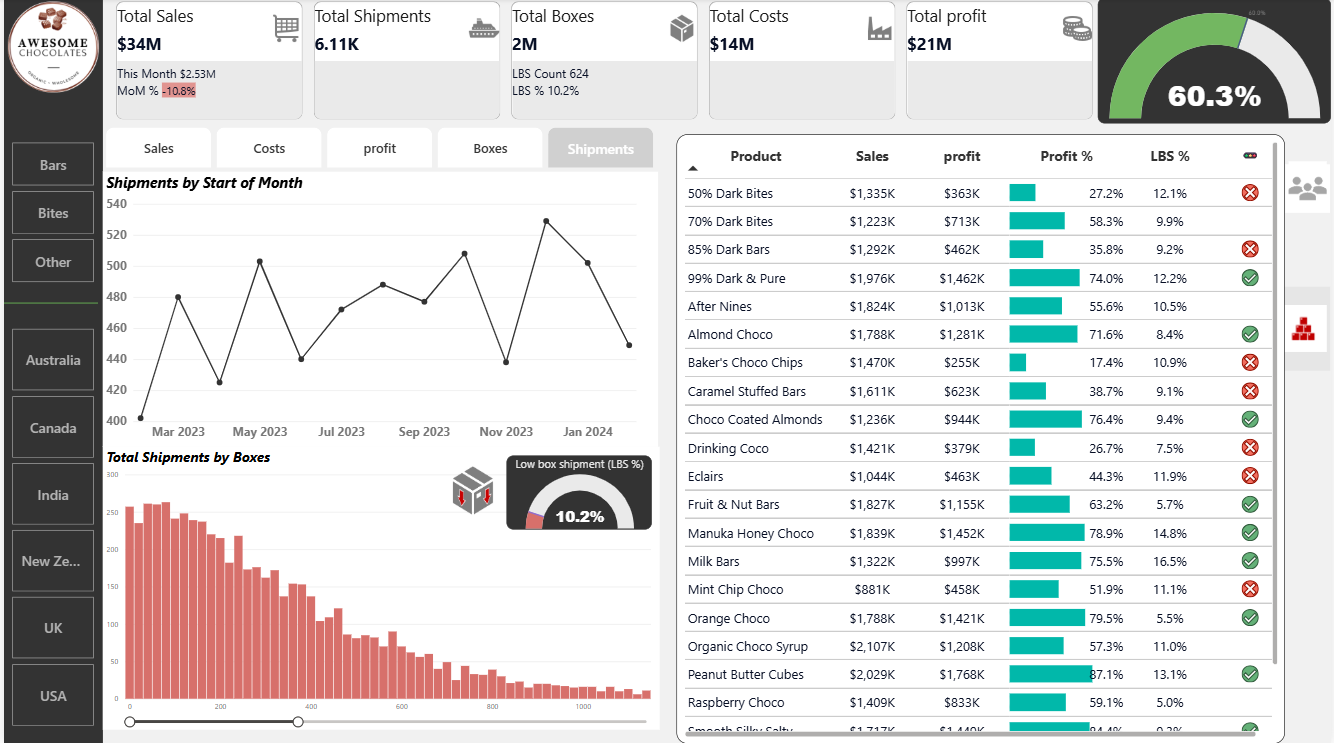

The dashboard page shown, as its layout file describes it:
{"tool":"powerbi","page":{"name":"Report","canvas":[1920,1080],"ordinal":0},"visuals":[{"type":"image","title":"Product highlighted img","box":[1842.2,418,77.8,121.2],"z":0},{"type":"shape","box":[0,0,143.4,1079.9],"z":1000},{"type":"cardVisual","fields":{"Data":["_Measures.Total Sales","_Measures.Total Shipments","_Measures.Total Boxes","_Measures.Total Costs","_Measures.Total profit"]},"box":[157.7,0,1425.2,181.6],"z":2000},{"type":"gauge","fields":{"Y":["_Measures.Profit %"]},"box":[1583,0,337.5,181.6],"z":3000},{"type":"image","box":[0,0,143.4,141.5],"z":4000},{"type":"lineChart","fields":{"Y":["_Measures.Total Boxes"],"Category":["calendar.Start of Month"]},"box":[143.4,251.4,804.4,398.5],"z":5000},{"type":"advancedSlicerVisual","fields":{"Values":["Measure Selector.Measure Selector"]},"box":[143.4,182.5,804.4,68.9],"z":6000},{"type":"clusteredColumnChart","title":"Total Shipments by Boxes","fields":{"Y":["_Measures.Total Shipments"],"Category":["shipments.Boxes (bins)"]},"box":[143.1,649.3,805.2,409],"z":7000},{"type":"gauge","title":"Low box shipment (LBS %)","fields":{"Y":["_Measures.LBS %"]},"box":[728.2,662.2,210,107],"z":8000},{"type":"image","title":"LBS Icon","box":[627.3,665.8,100.9,93.5],"z":9000},{"type":"tableEx","title":"Product Details table","fields":{"Values":["products.Product","_Measures.Total Sales","_Measures.Total profit","_Measures.Profit %","_Measures.LBS %","_Measures.Profit Target Indicator"]},"box":[974,198.1,880.4,882.3],"z":11000},{"type":"advancedSlicerVisual","fields":{"Values":["products.Category"]},"box":[7.3,203.6,128.4,212.8],"z":12000},{"type":"advancedSlicerVisual","fields":{"Values":["locations.Geo"]},"box":[7.3,473.2,128.4,585.1],"z":13000},{"type":"shape","box":[0,432.9,135.7,18.3],"z":14000},{"type":"image","title":"People Highlighted img","box":[1854.9,231.6,65.1,77.8],"z":16000},{"type":"image","title":"People dull image","box":[1854.9,240.7,65.1,70.6],"z":17000}]}

Visuals, with their boxes on the page's 1920x1080 design canvas (x1, y1, x2, y2). These are canvas units, not pixel positions in the 1334x743 screenshot, which may show the page scaled, cropped or inside an application window:
"Product highlighted img" image: bbox(1842, 418, 1920, 539)
shape: bbox(0, 0, 143, 1080)
cardVisual - _Measures.Total Sales x _Measures.Total Shipments: bbox(158, 0, 1583, 182)
gauge - _Measures.Profit %: bbox(1583, 0, 1920, 182)
image: bbox(0, 0, 143, 142)
lineChart - _Measures.Total Boxes x calendar.Start of Month: bbox(143, 251, 948, 650)
advancedSlicerVisual - Measure Selector.Measure Selector: bbox(143, 182, 948, 251)
"Total Shipments by Boxes" clusteredColumnChart: bbox(143, 649, 948, 1058)
"Low box shipment (LBS %)" gauge: bbox(728, 662, 938, 769)
"LBS Icon" image: bbox(627, 666, 728, 759)
"Product Details table" tableEx: bbox(974, 198, 1854, 1080)
advancedSlicerVisual - products.Category: bbox(7, 204, 136, 416)
advancedSlicerVisual - locations.Geo: bbox(7, 473, 136, 1058)
shape: bbox(0, 433, 136, 451)
"People Highlighted img" image: bbox(1855, 232, 1920, 309)
"People dull image" image: bbox(1855, 241, 1920, 311)
